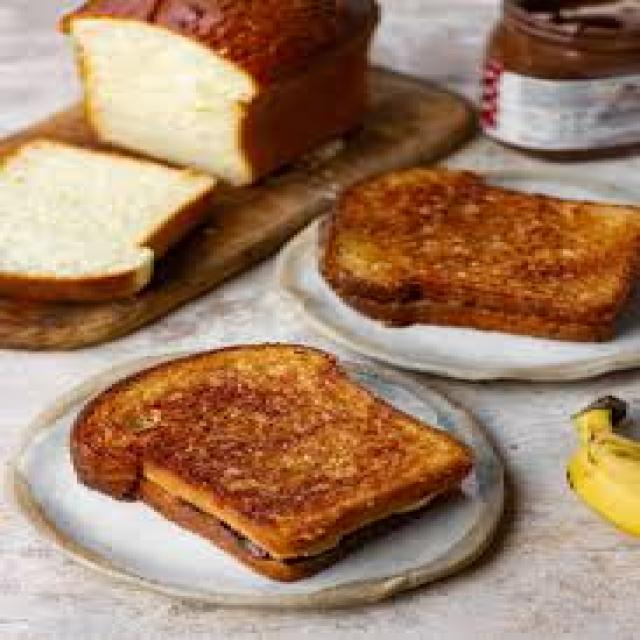Bread: (71, 345, 471, 581), (321, 167, 639, 341), (2, 140, 216, 301)
